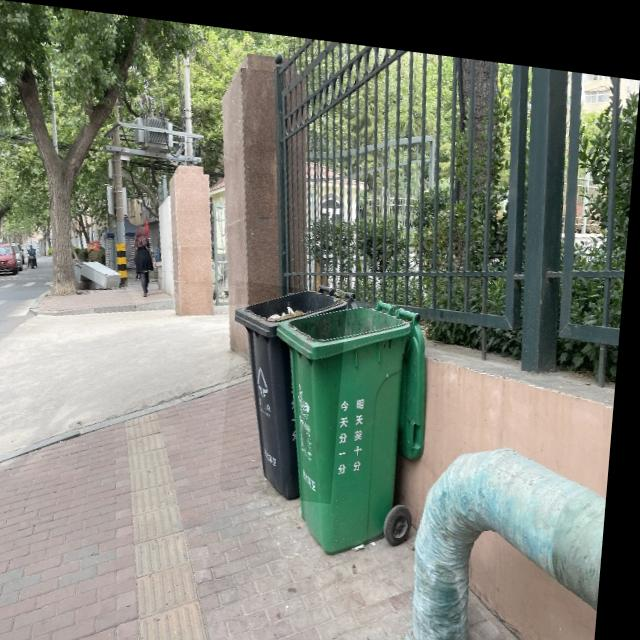garbage_bin: (266, 285, 417, 550), (227, 273, 353, 495)
